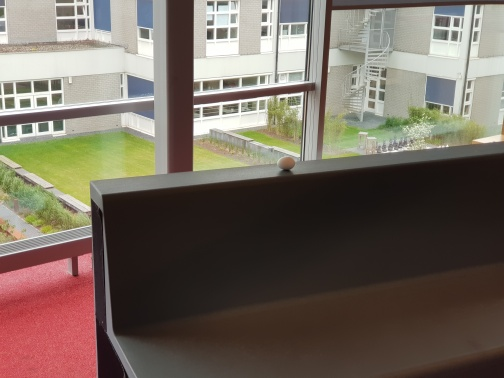egg: (277, 155, 298, 171)
